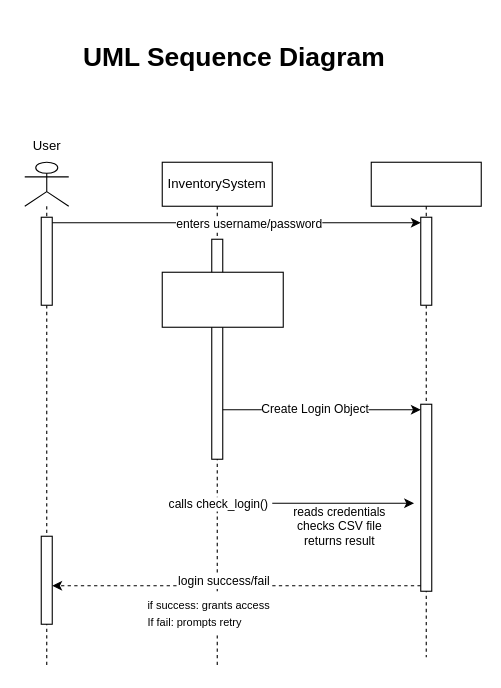
Image size: 501x688. Some labels were removed from this diagram. The shapes that lost their labels are listed below. From the top down, each one's centre as x and y in pixels, then its label:
At pixel 222 299: "calls authenticate()".
At pixel 425 409: "Login".
